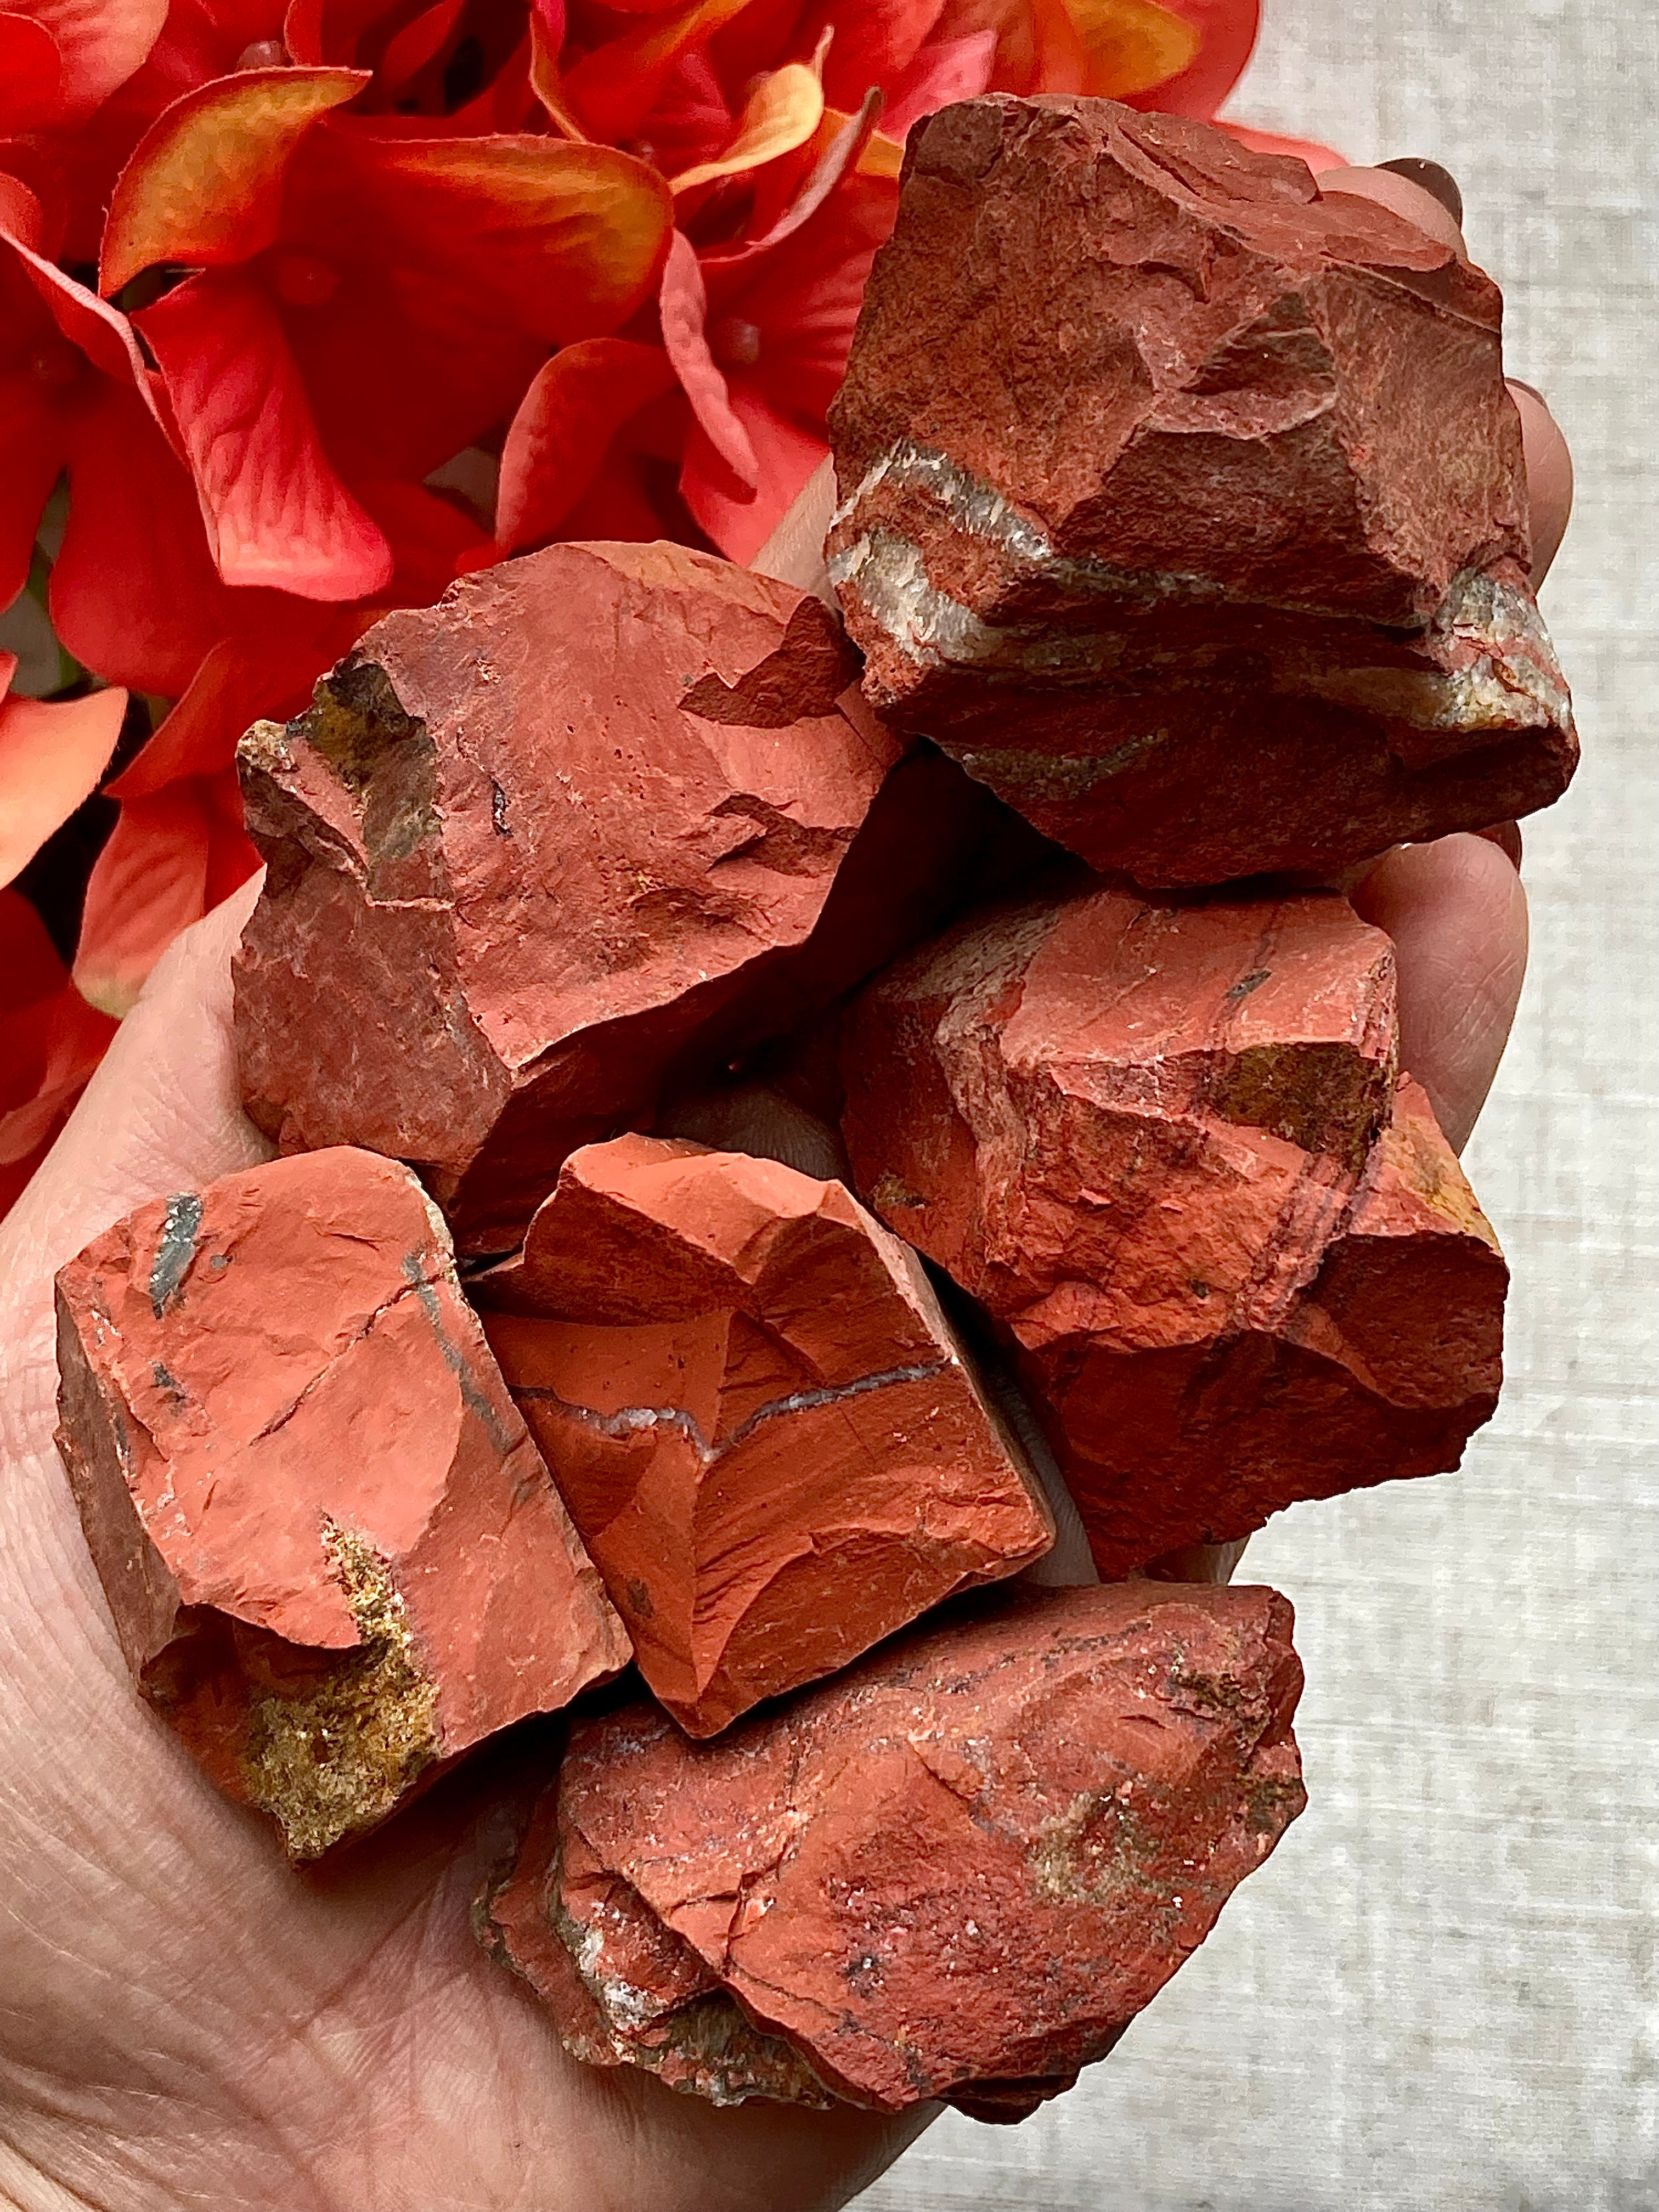Red_Jasper: (256, 700, 1459, 1550)
